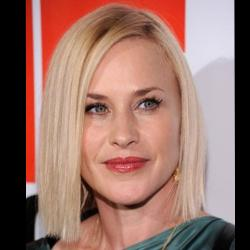face: (39, 4, 211, 232)
